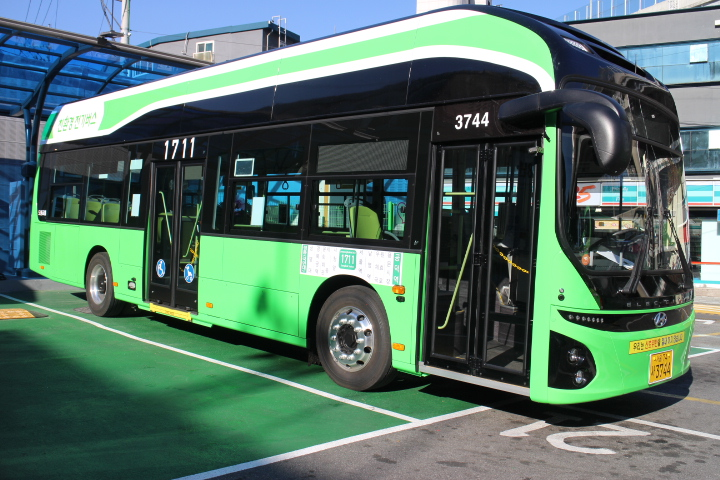entrance: (424, 134, 538, 396)
